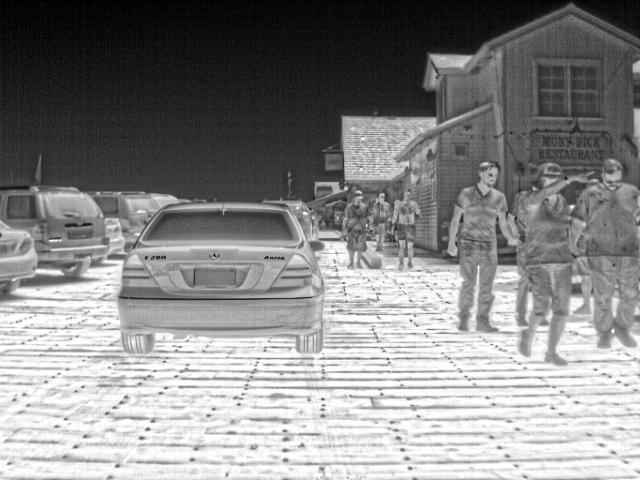car: (115, 206, 326, 352), (2, 186, 111, 278), (85, 191, 159, 246), (261, 195, 325, 242), (0, 221, 42, 288), (104, 218, 126, 255), (154, 192, 180, 214)
person: (569, 157, 639, 349), (442, 160, 517, 333), (516, 163, 578, 366), (387, 192, 419, 270), (338, 194, 367, 266), (367, 190, 388, 252)
